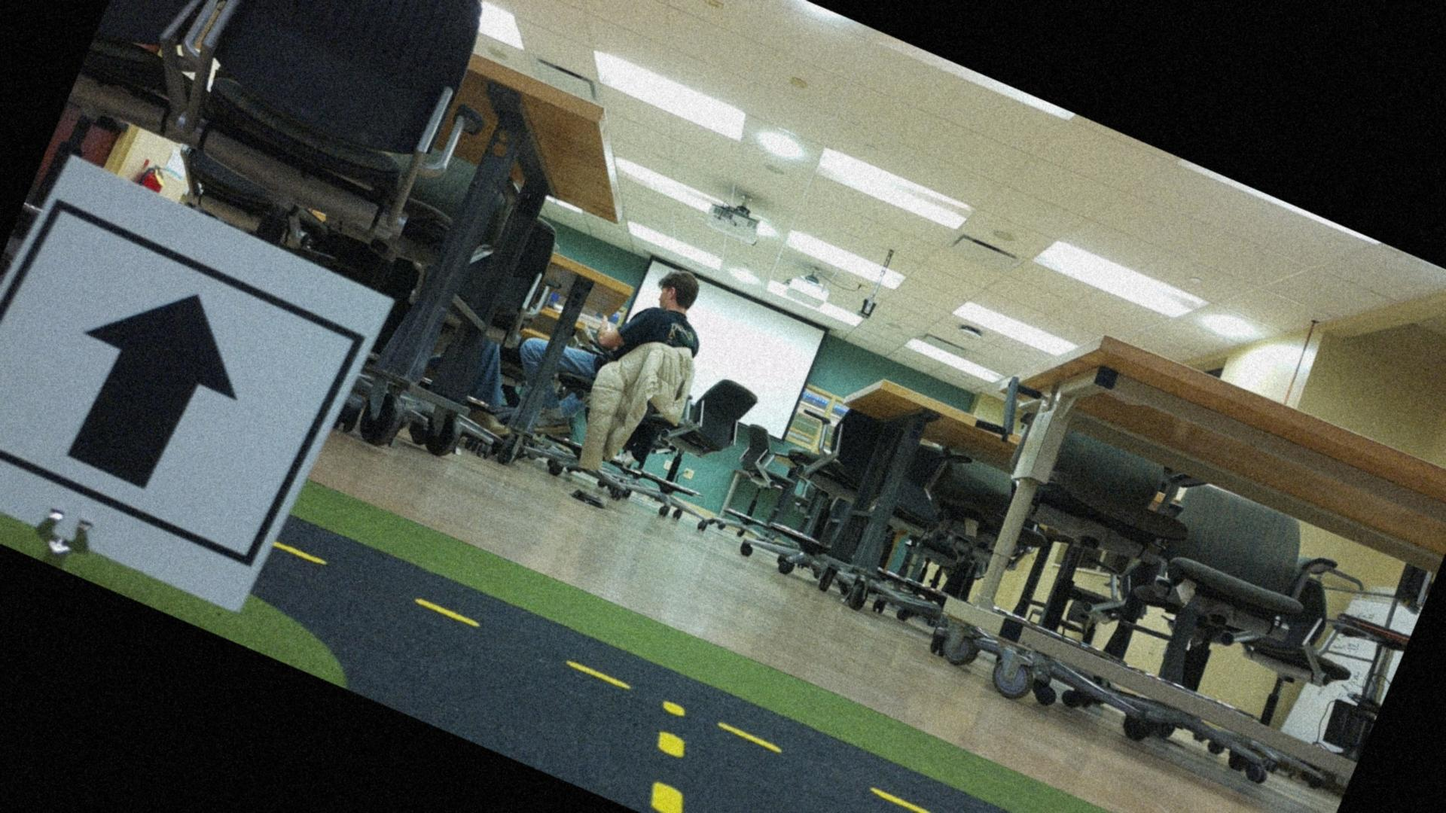gostraight: (0, 146, 389, 622)
yellowline: (276, 534, 1271, 812), (627, 696, 722, 812)
